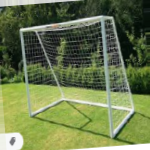goals: (17, 13, 136, 140)
